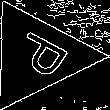P_SE: (2, 26, 73, 85)
